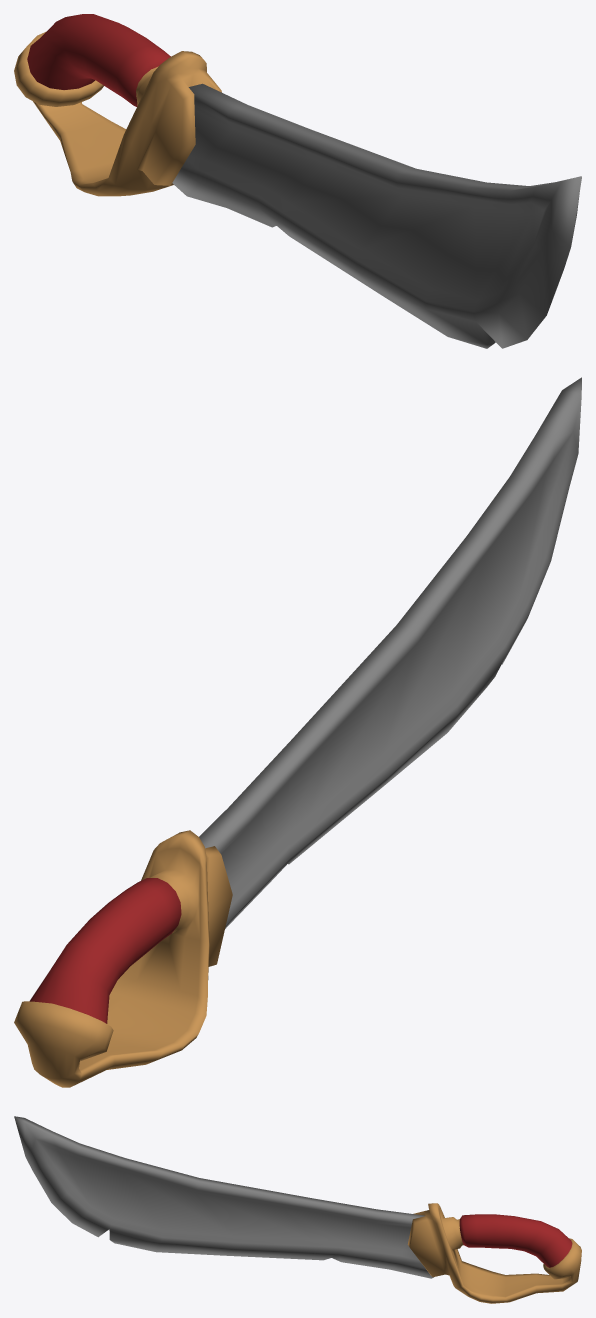
File: Sablja LOW.fbx
3 renders of one model, top to bottom at view 1: azimuth 30°, elevation 25°; view 2: azimuth 150°, elevation 25°; view 3: azimuth 270°, elevation 25°, orthographic. The views are drawn at different scales.
Parts seen in each view (by area): view 1: Secivo_low, Drska_low, Drska koza_low; view 2: Secivo_low, Drska_low, Drska koza_low; view 3: Secivo_low, Drska_low, Drska koza_low.
Part boxes in pixels (x1=…): Secivo_low: x1=172, y1=83, x2=581, y2=348; Drska_low: x1=14, y1=32, x2=221, y2=196; Drska koza_low: x1=27, y1=14, x2=170, y2=106; Secivo_low: x1=199, y1=377, x2=581, y2=928; Drska_low: x1=14, y1=830, x2=232, y2=1087; Drska koza_low: x1=29, y1=878, x2=181, y2=1023; Secivo_low: x1=14, y1=1116, x2=433, y2=1278; Drska_low: x1=407, y1=1203, x2=581, y2=1303; Drska koza_low: x1=459, y1=1214, x2=572, y2=1267.
Size of the model in its own units: 417 by 1219 by 3472.
